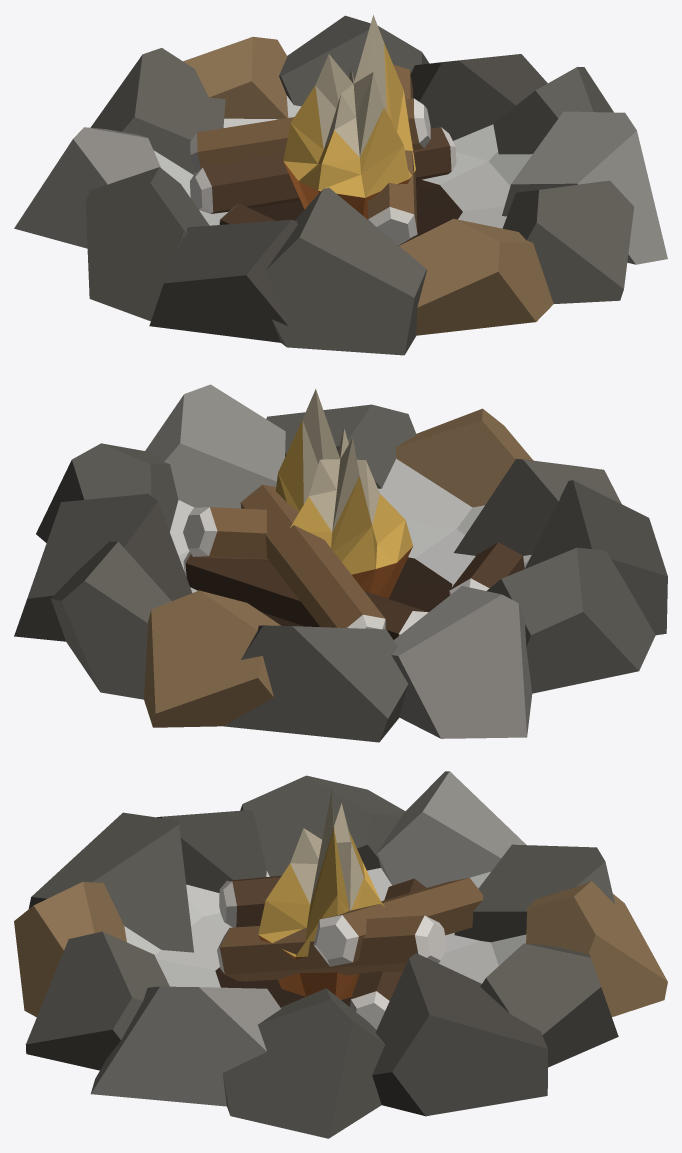
File: stage1_stone_fire_pit.glb
The picture shows the model from 3 angles, top to bottom: view 1: azimuth 30°, elevation 25°; view 2: azimuth 150°, elevation 25°; view 3: azimuth 270°, elevation 25°; orthographic projection. The views are drawn at different scales.
Parts seen in each view (by area): view 1: fire-pit, flame-mesh; view 2: fire-pit, flame-mesh; view 3: fire-pit, flame-mesh.
Boxes of the visible parts, bbox=[...] form: fire-pit: bbox=[14, 15, 667, 355]; flame-mesh: bbox=[283, 15, 415, 219]; fire-pit: bbox=[14, 384, 667, 742]; flame-mesh: bbox=[275, 389, 412, 598]; fire-pit: bbox=[14, 771, 667, 1138]; flame-mesh: bbox=[258, 789, 384, 999].
Size of the model in its own units: 1.21 by 0.42 by 1.16.
